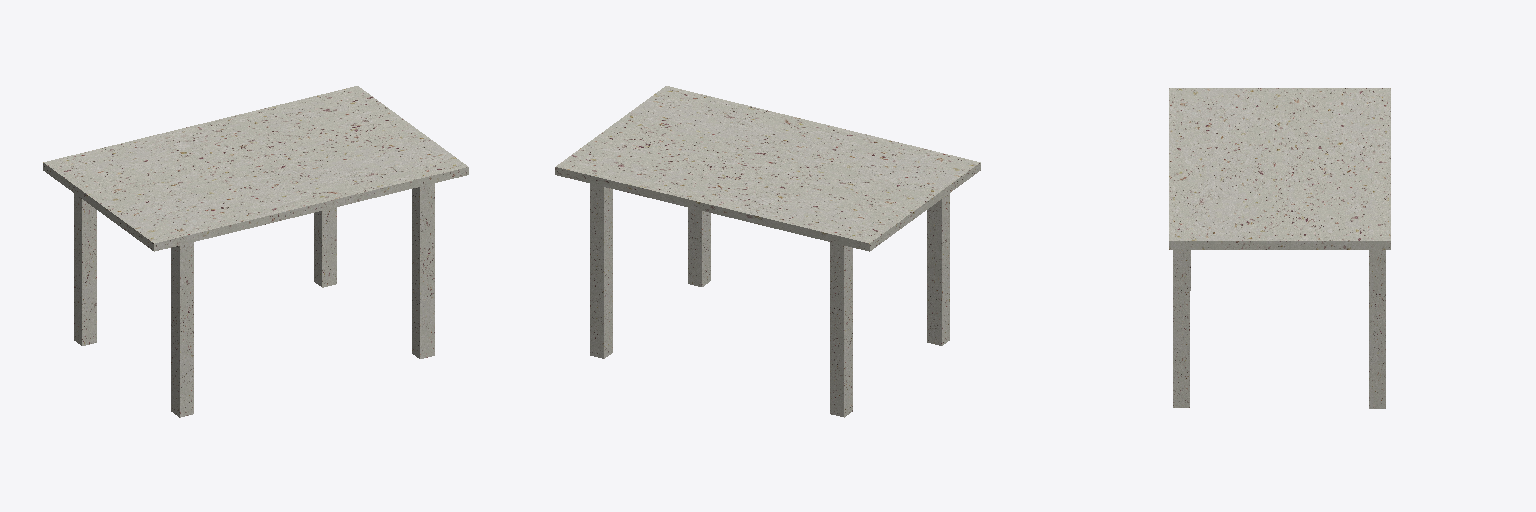
3 views of the same model, side by side, from view 1: azimuth 30°, elevation 25°; view 2: azimuth 150°, elevation 25°; view 3: azimuth 270°, elevation 25° (orthographic).
Parts seen in each view (by area): view 1: Стол_Куб.004; view 2: Стол_Куб.004; view 3: Стол_Куб.004.
Boxes of the visible parts, x1,y1,x2,y2 form: Стол_Куб.004: [43, 86, 468, 417]; Стол_Куб.004: [555, 86, 980, 417]; Стол_Куб.004: [1169, 88, 1390, 408].
Size of the model in its own units: 3.14 by 1.74 by 1.92.
1 materials, 1 textured.